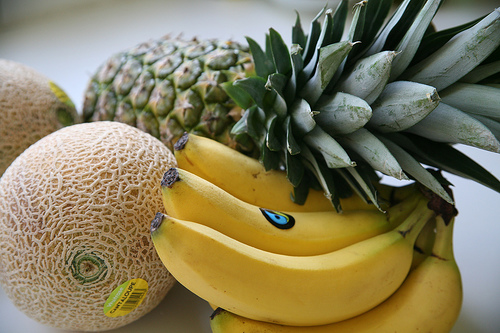pineapple: (82, 0, 499, 216)
